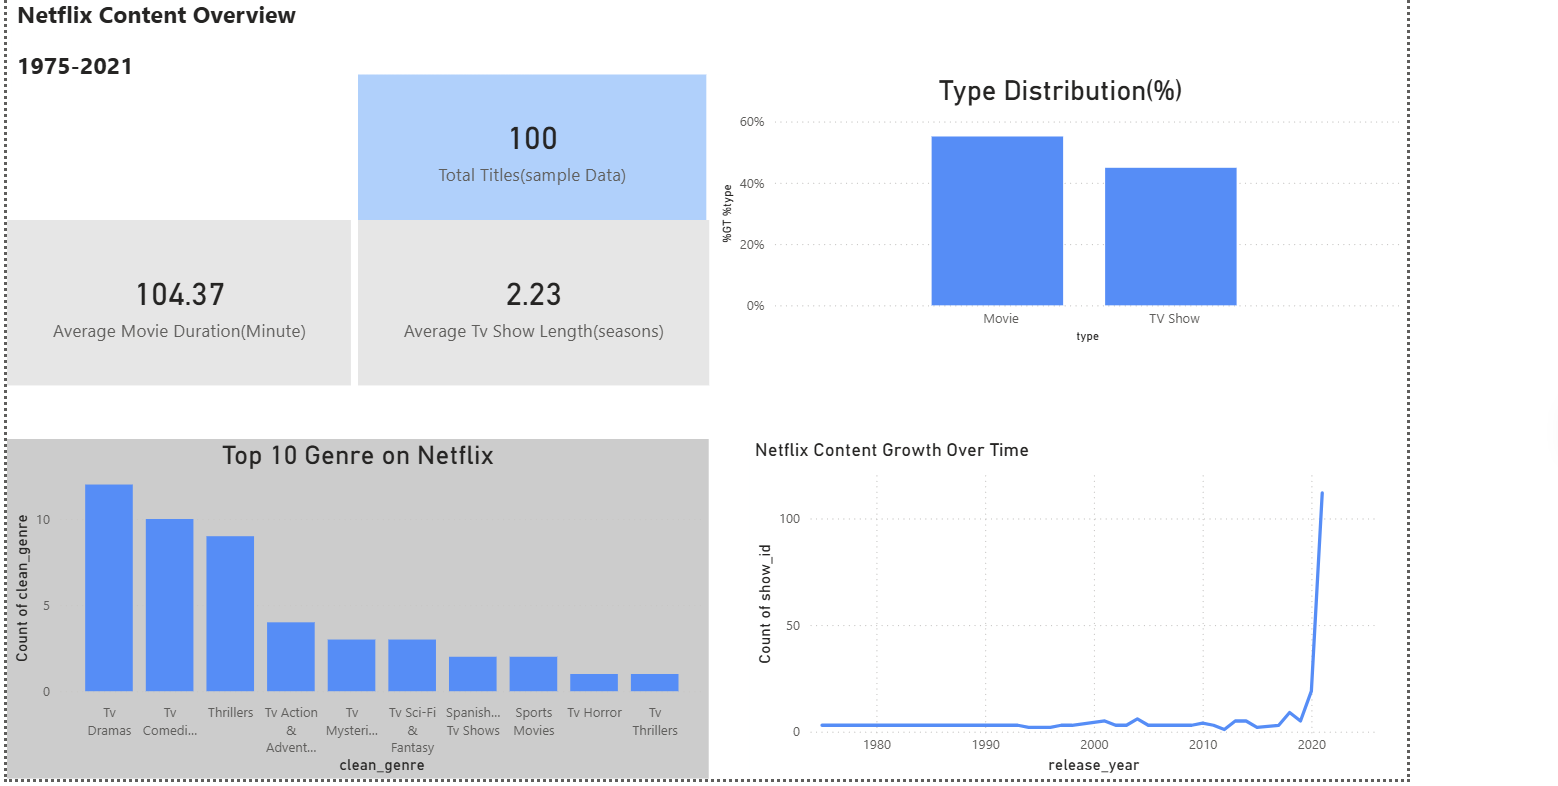

What the dashboard file says about the page in this screenshot:
{"tool":"powerbi","page":{"name":"charts","canvas":[1280,720],"ordinal":0},"visuals":[{"type":"card","fields":{"Values":["Count(NETFLIX.show_id)"]},"box":[321.1,75.5,318.4,133.1],"z":0},{"type":"columnChart","title":"Type Distribution(%)","fields":{"Category":["NETFLIX.type"],"Y":["Cafe_Sales.%type"]},"box":[648.1,75.7,631.4,249.8],"z":1000},{"type":"clusteredColumnChart","title":"Top 10 Genre on Netflix","fields":{"Y":["CountNonNull(NETFLIX.clean_genre)"],"Category":["NETFLIX.clean_genre"]},"box":[0,408.8,642,310.4],"z":2000},{"type":"lineChart","title":"Netflix Content Growth Over Time","fields":{"Category":["NETFLIX.release_year"],"Y":["CountNonNull(NETFLIX.show_id)"]},"box":[679.9,408.8,581.5,310.4],"z":3000},{"type":"card","fields":{"Values":["NETFLIX.Average Movie Duration"]},"box":[0,209,315,151.4],"z":4000},{"type":"card","fields":{"Values":["NETFLIX.Average Tv show Duration"]},"box":[321,209,321,151.4],"z":5000},{"type":"textbox","box":[4.5,0,310.4,90.9],"z":6000}]}

Visuals, with their boxes on the page's 1280x720 design canvas (x1, y1, x2, y2). These are canvas units, not pixel positions in the 1558x786 screenshot, which may show the page scaled, cropped or inside an application window:
card - Count(NETFLIX.show_id): locate(321, 76, 640, 209)
"Type Distribution(%)" columnChart: locate(648, 76, 1280, 326)
"Top 10 Genre on Netflix" clusteredColumnChart: locate(0, 409, 642, 719)
"Netflix Content Growth Over Time" lineChart: locate(680, 409, 1261, 719)
card - NETFLIX.Average Movie Duration: locate(0, 209, 315, 360)
card - NETFLIX.Average Tv show Duration: locate(321, 209, 642, 360)
textbox: locate(4, 0, 315, 91)
